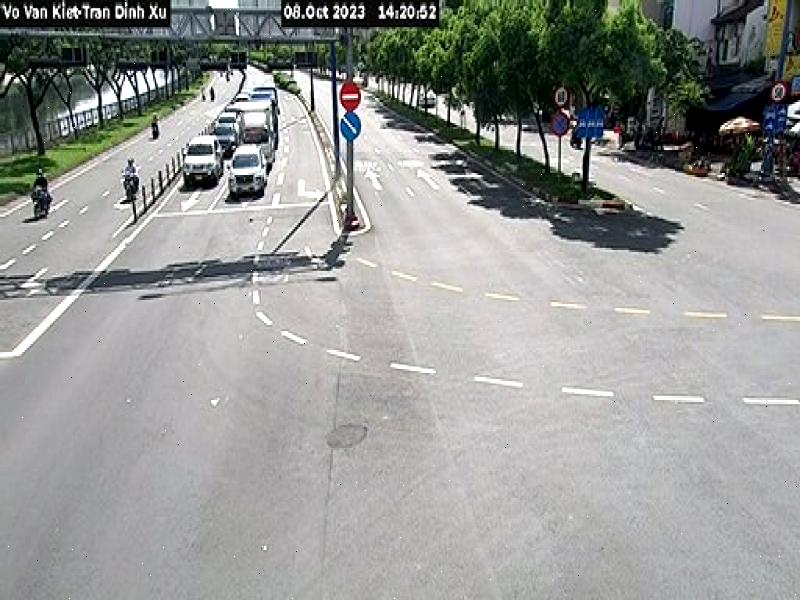car: (179, 136, 229, 210), (227, 144, 270, 228), (207, 121, 249, 160)
truck: (235, 96, 278, 147)
